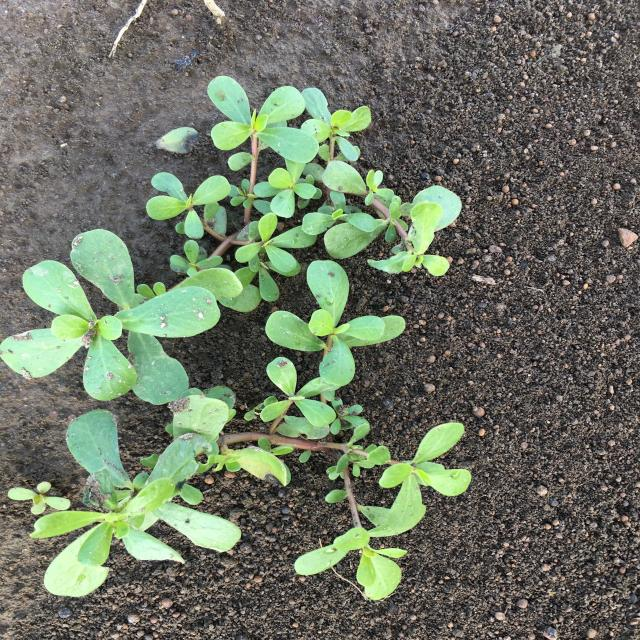Purslane: (0, 76, 462, 405), (30, 260, 472, 601), (8, 482, 70, 514)
